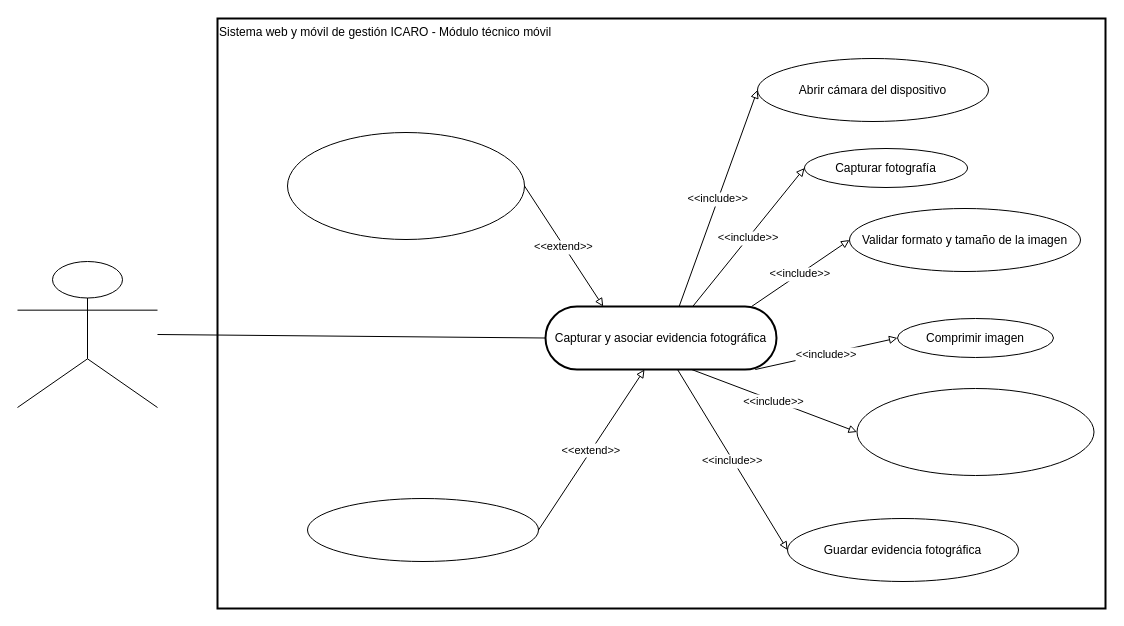
The diagram is 1124 pixels wide and 626 high, and some of its shapes have lost their labels. The centre of each missing label's shape, as x and y in pixels:
Asociar evidencia al registro de avance y al rubro: point (975, 432)
Inhabilitar guardado por falta de evidencia fotográfica: point (405, 186)
Personal Técnico: point (87, 334)
Rechazar imagen por formato o tamaño inválido: point (422, 530)
